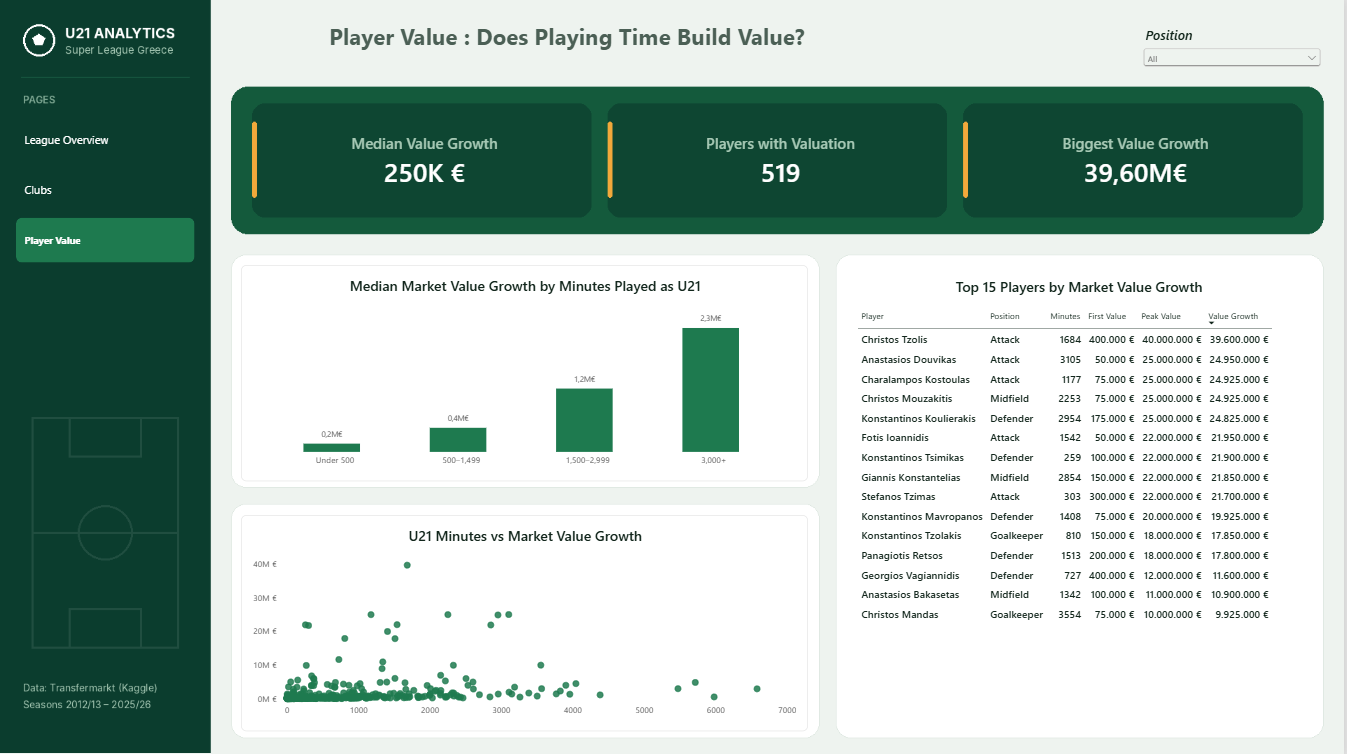

Layout of this report page (visuals, bound fields, positions):
{"tool":"powerbi","page":{"name":"Player Value","canvas":[1920,1080],"ordinal":2},"visuals":[{"type":"textbox","box":[330,30,960,75],"z":0},{"type":"slicer","fields":{"Values":["gr_u21_players.position"]},"box":[1628,38,263,75],"z":1000},{"type":"cardVisual","fields":{"Data":["Measure.Median Value Growth"]},"box":[381,159,450,147],"z":2000},{"type":"cardVisual","fields":{"Data":["Measure.Players with Valuation"]},"box":[890,159,450,147],"z":3000},{"type":"clusteredColumnChart","title":"Median Market Value Growth by Minutes Played as U21","fields":{"Category":["gr_u21_players.Minutes Band"],"Y":["Measure.Median Value Growth"]},"box":[345,380,810,309],"z":4000},{"type":"scatterChart","title":"U21 Minutes vs Market Value Growth ","fields":{"Category":["gr_u21_players.player_name"],"X":["Sum(gr_u21_players.u21_minutes)"],"Y":["Sum(gr_u21_players.value_growth)"]},"box":[345,737,810,309],"z":5000},{"type":"tableEx","title":"Top 15 Players by Market Value Growth","fields":{"Values":["gr_u21_players.player_name","gr_u21_players.position","gr_u21_players.u21_minutes","gr_u21_players.first_value","gr_u21_players.peak_value","gr_u21_players.value_growth"]},"box":[1209,383,666,660],"z":6000},{"type":"cardVisual","fields":{"Data":["Measure.Biggest Value Growth"]},"box":[1397,159,450,147],"z":7000},{"type":"pageNavigator","box":[23,168,255,210],"z":7001}]}

Visuals, with their boxes on the page's 1920x1080 design canvas (x1, y1, x2, y2). These are canvas units, not pixel positions in the 1347x754 screenshot, which may show the page scaled, cropped or inside an application window:
textbox: bbox(330, 30, 1290, 105)
slicer - gr_u21_players.position: bbox(1628, 38, 1891, 113)
cardVisual - Measure.Median Value Growth: bbox(381, 159, 831, 306)
cardVisual - Measure.Players with Valuation: bbox(890, 159, 1340, 306)
"Median Market Value Growth by Minutes Played as U21" clusteredColumnChart: bbox(345, 380, 1155, 689)
"U21 Minutes vs Market Value Growth " scatterChart: bbox(345, 737, 1155, 1046)
"Top 15 Players by Market Value Growth" tableEx: bbox(1209, 383, 1875, 1043)
cardVisual - Measure.Biggest Value Growth: bbox(1397, 159, 1847, 306)
pageNavigator: bbox(23, 168, 278, 378)
